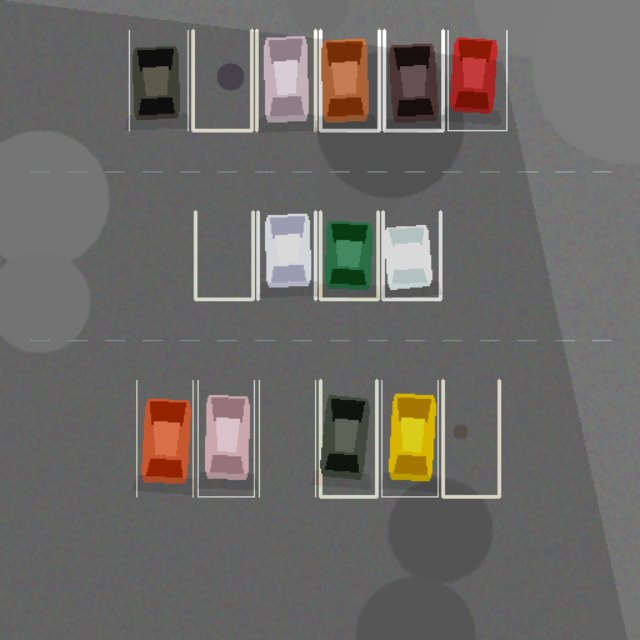space-empty: (259, 380, 315, 496), (443, 380, 499, 496), (193, 30, 251, 130), (195, 211, 252, 299)
space-occupied: (136, 380, 193, 496), (197, 380, 254, 496), (320, 380, 376, 496), (381, 380, 437, 496), (256, 30, 315, 130), (320, 30, 379, 130), (384, 30, 443, 130), (447, 30, 506, 130), (129, 30, 187, 130), (320, 211, 378, 299), (382, 211, 440, 299), (258, 211, 315, 299)
